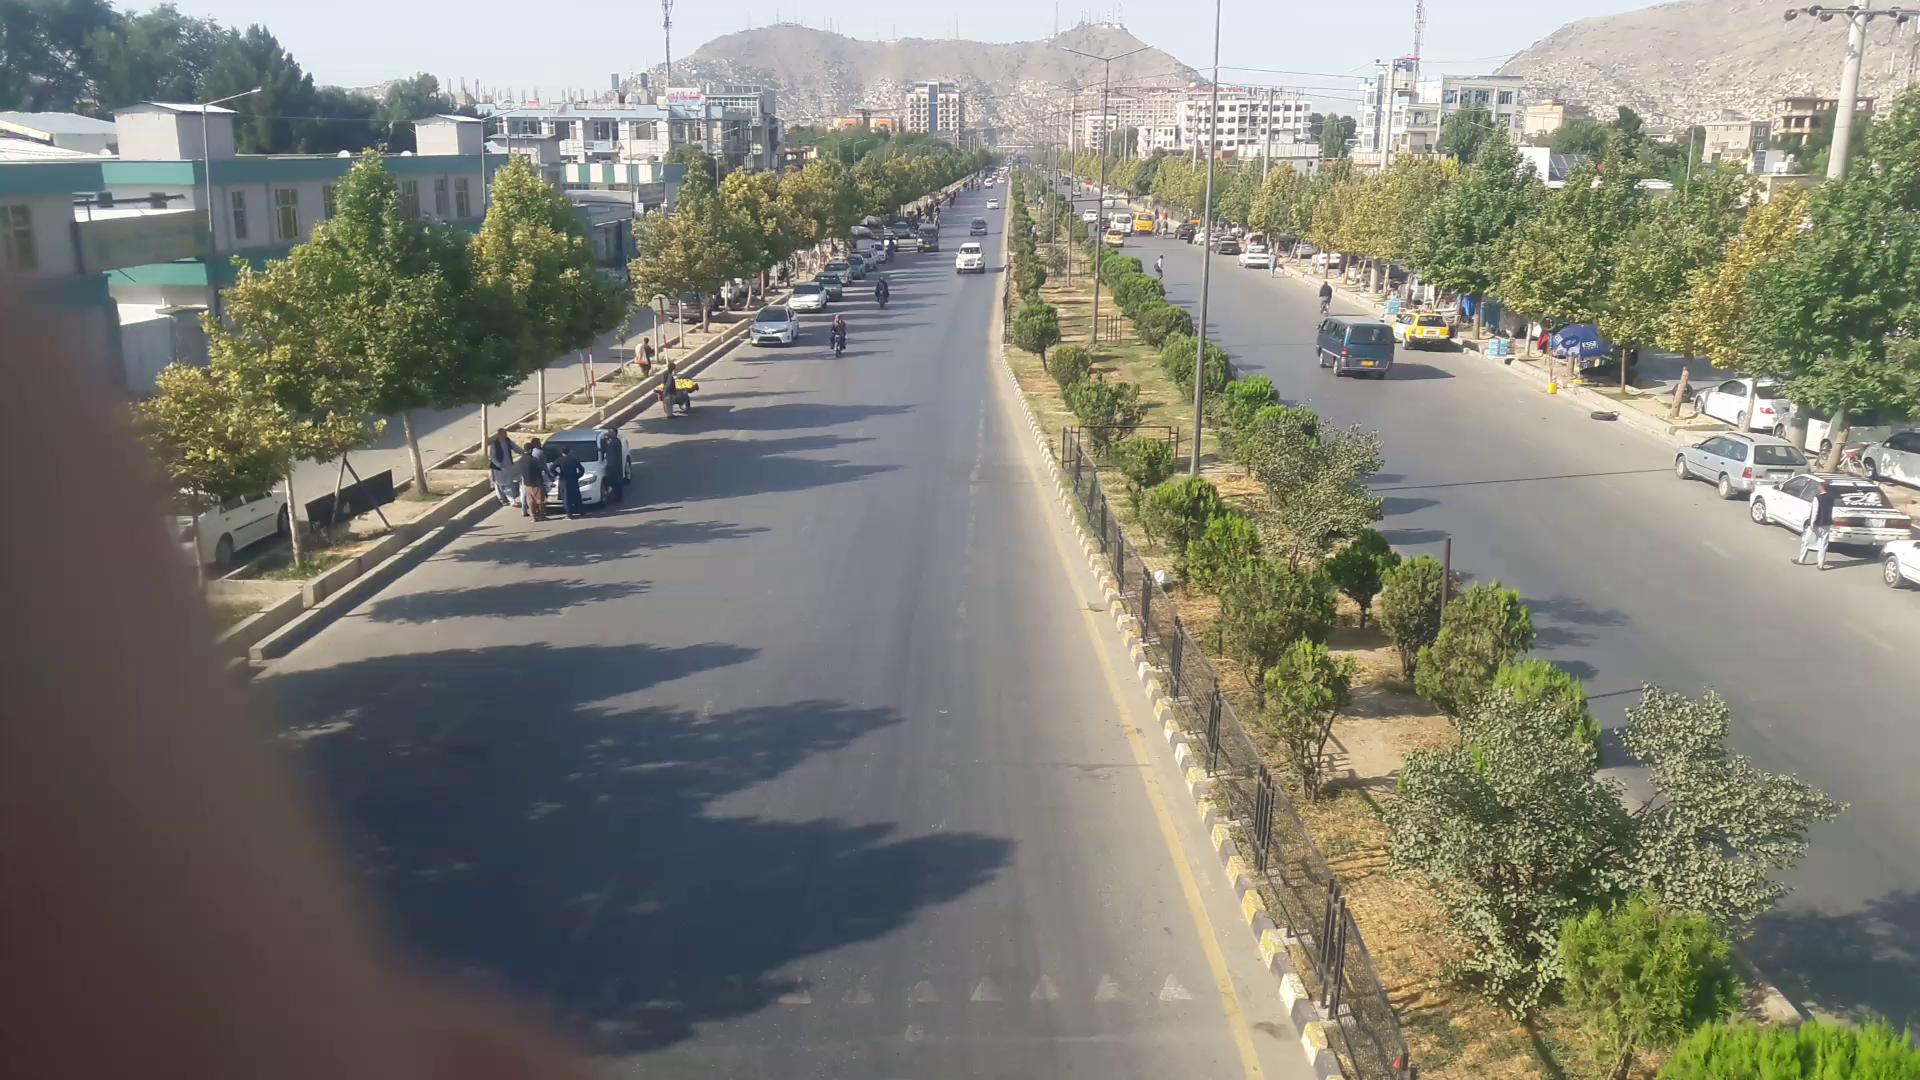bike: (828, 316, 851, 353), (872, 278, 890, 306)
bus: (1317, 318, 1400, 375)
car: (1678, 432, 1811, 497), (1394, 311, 1450, 346), (754, 312, 802, 346), (791, 286, 831, 310), (956, 243, 985, 271)
